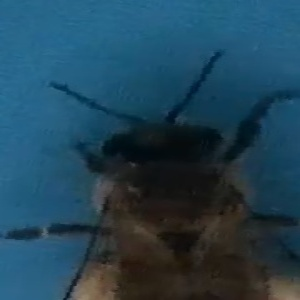bee: (30, 51, 300, 300)
